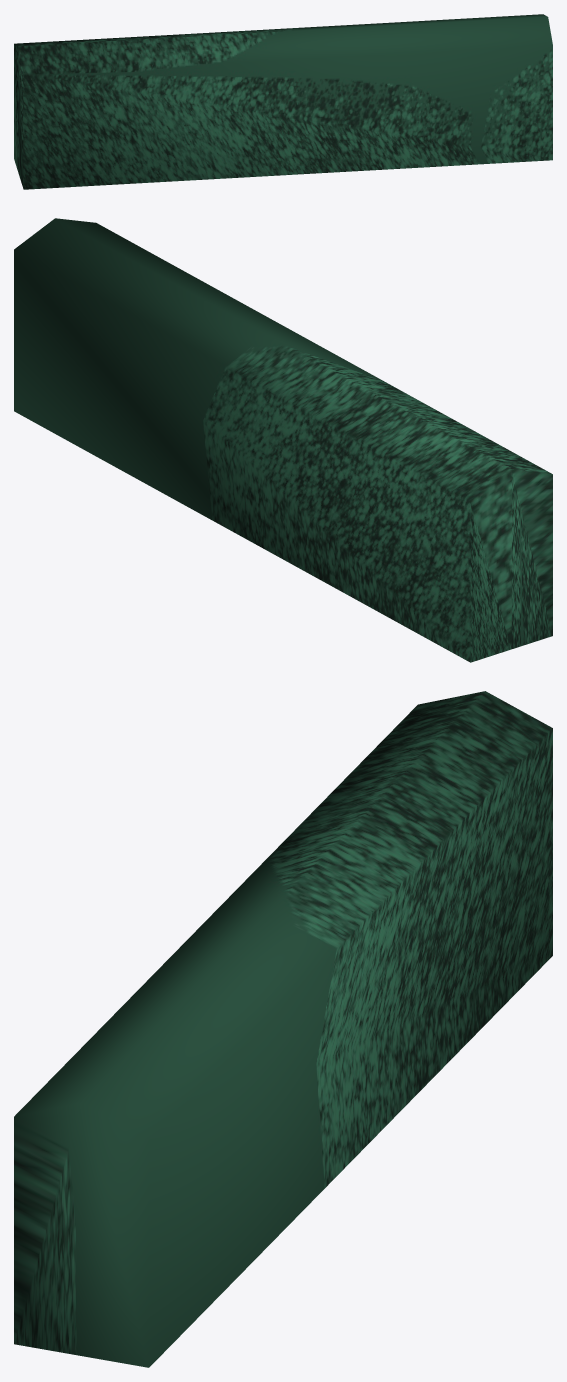
Rendered from Ring3W3.fbx.
3 renders of one model, top to bottom at view 1: azimuth 30°, elevation 25°; view 2: azimuth 150°, elevation 25°; view 3: azimuth 270°, elevation 25°, orthographic. The views are drawn at different scales.
Visible parts, largest first — view 1: Ring3W3; view 2: Ring3W3; view 3: Ring3W3.
Boxes of the visible parts, x1,y1,x2,y2 form: Ring3W3: [14, 14, 552, 189]; Ring3W3: [14, 218, 552, 662]; Ring3W3: [14, 691, 552, 1367].
Bounding box in the file's own units: 1478 × 400 × 773.
